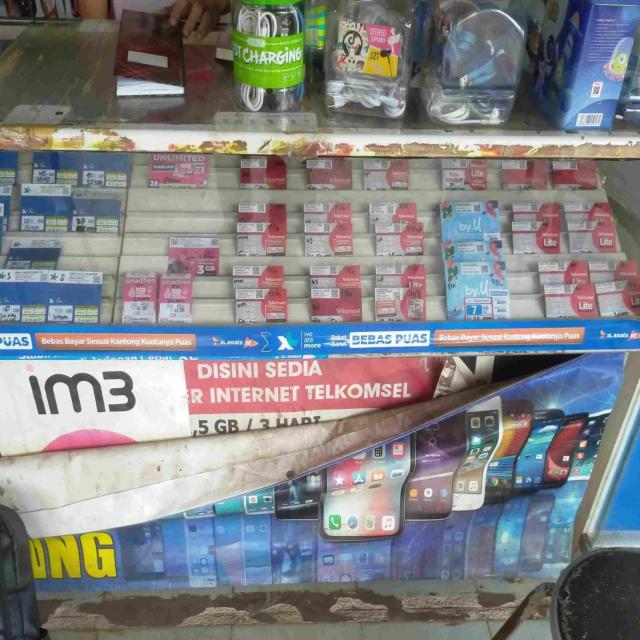Gratis Nelpon: (0, 270, 101, 326), (33, 152, 130, 188), (20, 184, 70, 230), (73, 188, 120, 234), (8, 235, 62, 269), (2, 148, 17, 185)
Telkomsel: (539, 256, 639, 318), (566, 203, 623, 251), (511, 205, 562, 252), (234, 288, 288, 322), (237, 223, 287, 258), (375, 288, 427, 321), (240, 156, 288, 190), (312, 289, 363, 320), (304, 158, 354, 188), (360, 159, 410, 189), (375, 223, 424, 253), (499, 159, 548, 189), (304, 203, 352, 233), (442, 158, 487, 190), (552, 159, 601, 187), (233, 265, 284, 290), (375, 262, 427, 286), (310, 265, 363, 286), (303, 235, 354, 255), (238, 202, 286, 221), (369, 203, 419, 220)
byu: (439, 201, 505, 259), (445, 262, 511, 317)
smartfren: (170, 234, 220, 273), (151, 152, 206, 186), (124, 274, 156, 322), (161, 273, 193, 321)
